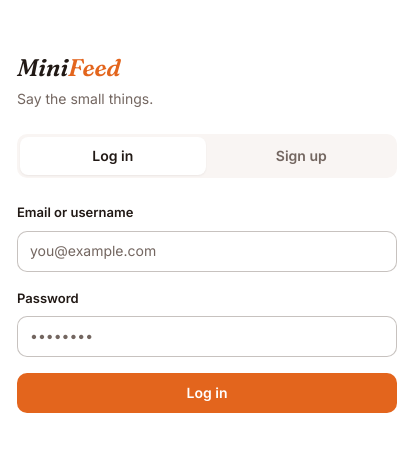
it: AuthPage › renders login form by default and toggles to signup mode
Expected: the field labelled "Email or username" is shown, x1=17 y1=231 x2=397 y2=272
Click the tab "Sign up".
click(301, 156)  # box x1=208 y1=137 x2=394 y2=175
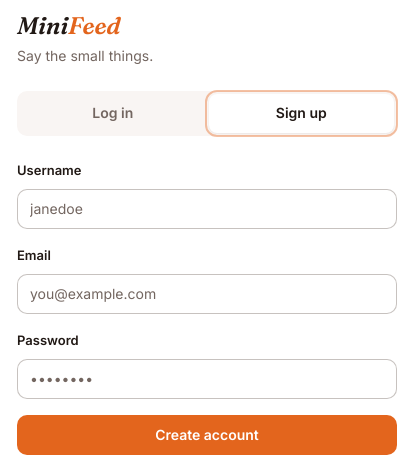
Expected: the field labelled "Username" is shown, x1=17 y1=189 x2=397 y2=229
Expected: the field labelled "Email" is shown, x1=17 y1=274 x2=397 y2=314
Expected: the label labelled "Email or username" is gone
